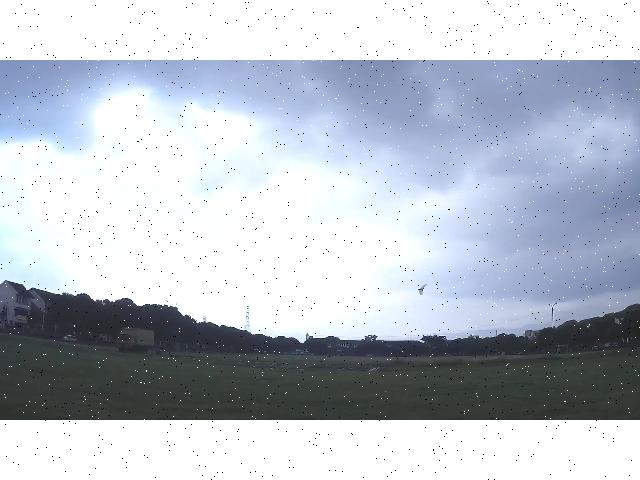Anti-Drone: (418, 284, 426, 296)
